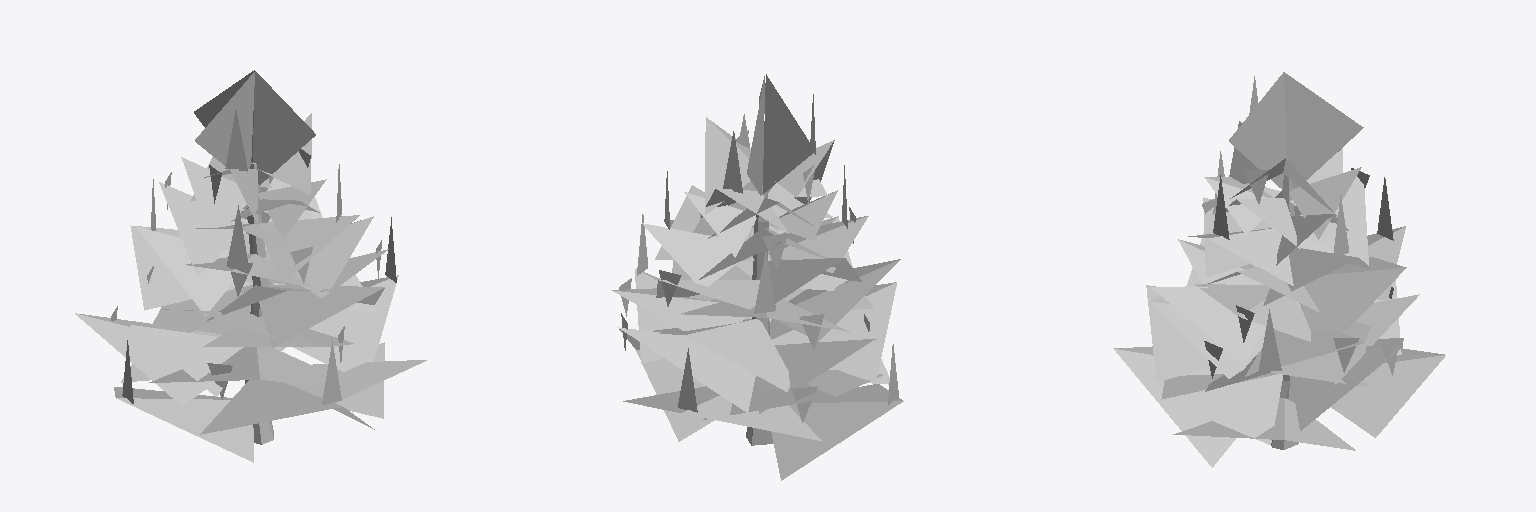
Rendered from xmas_tree.obj.
3 renders of one model, left to right at view 1: azimuth 30°, elevation 25°; view 2: azimuth 150°, elevation 25°; view 3: azimuth 270°, elevation 25°, orthographic.
Parts seen in each view (by area): view 1: unnamed_object1; view 2: unnamed_object1; view 3: unnamed_object1.
Boxes of the visible parts, x1,y1,x2,y2 form: unnamed_object1: [75, 70, 426, 462]; unnamed_object1: [611, 74, 903, 480]; unnamed_object1: [1114, 72, 1445, 467].
Size of the model in its own units: 6.74 by 8.6 by 7.05.